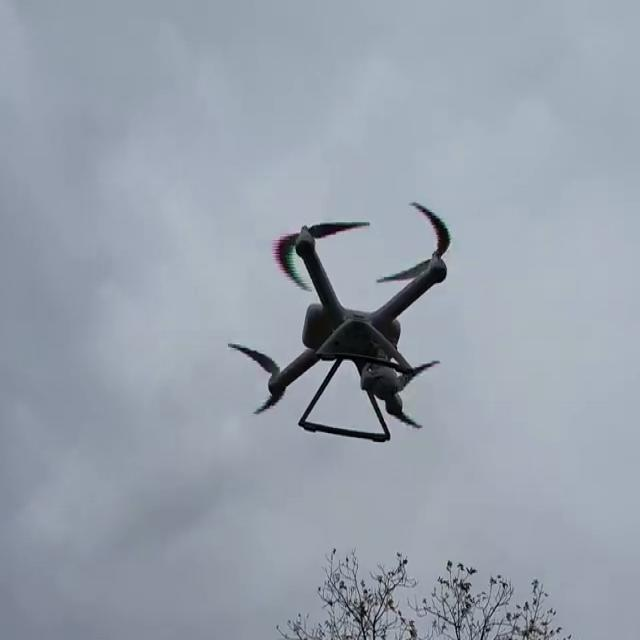drone: (223, 190, 462, 455)
